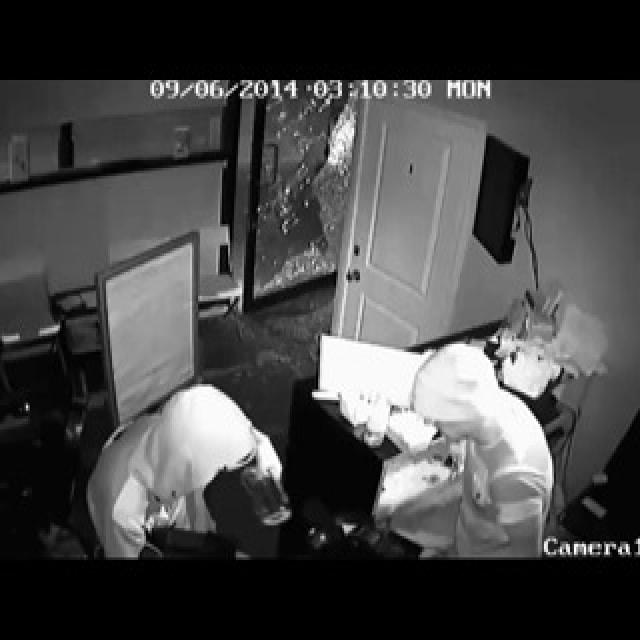thief: (85, 342, 554, 556)
